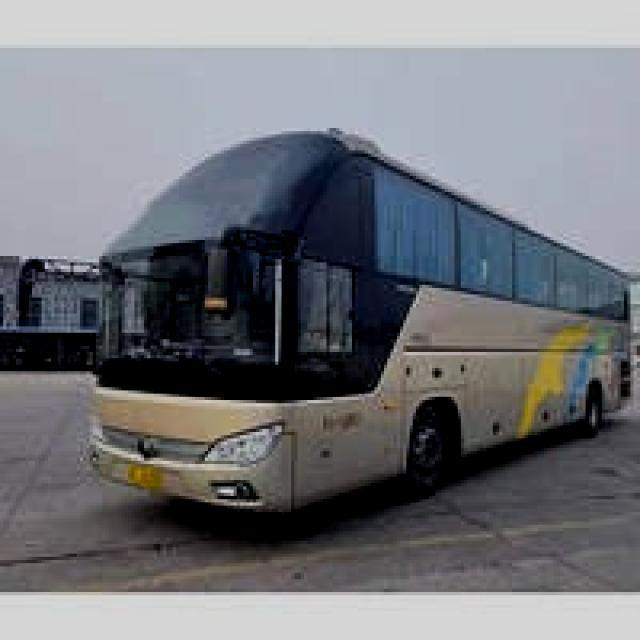Bus: (83, 111, 640, 532)
